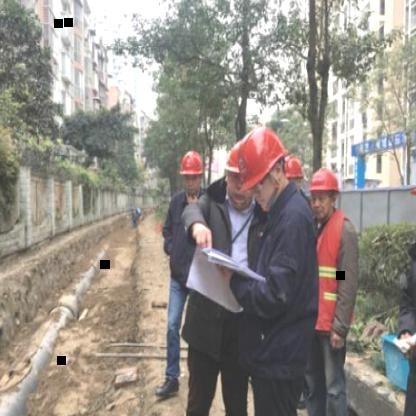helmet: (232, 124, 288, 192), (305, 163, 342, 200), (173, 148, 209, 179)
